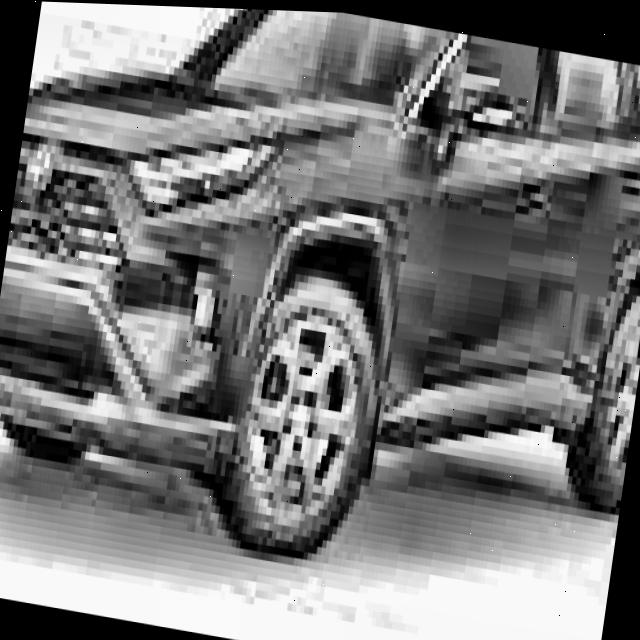light_vehicle: (0, 0, 640, 610)
